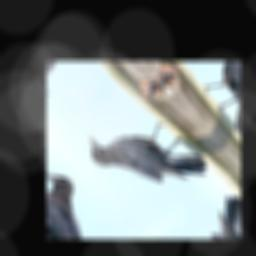Crow: (79, 95, 213, 219)
